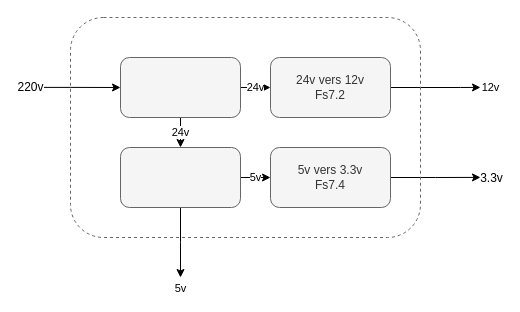
This 520x312 diagram has some shape labels left out. Each missing label, with the centre of its shape:
"220v vers 24v Fs7.1" belongs at (x=180, y=87).
"24v vers 5v Fs7.3" belongs at (x=180, y=177).
